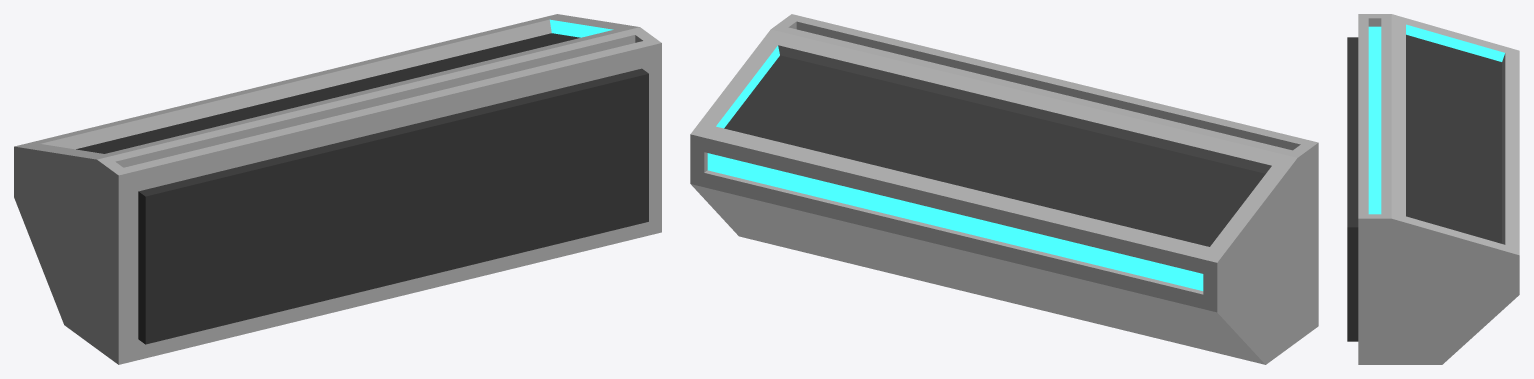
File: Digital_Desk.fbx
3 renders of one model, left to right at view 1: azimuth 30°, elevation 25°; view 2: azimuth 150°, elevation 25°; view 3: azimuth 270°, elevation 25°, orthographic. The views are drawn at different scales.
Parts seen in each view (by area): view 1: Digital Desk; view 2: Digital Desk; view 3: Digital Desk.
Part boxes in pixels (x1=…): Digital Desk: x1=14, y1=14, x2=661, y2=364; Digital Desk: x1=690, y1=14, x2=1318, y2=364; Digital Desk: x1=1347, y1=14, x2=1519, y2=364.
Bounding box in the file's own units: 6 × 2 × 2.14.
